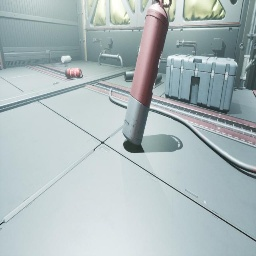0: (61, 56, 72, 63)
FireExtinguisher ]: (65, 68, 83, 78)
NitrogenTank ,: (122, 0, 172, 146)
